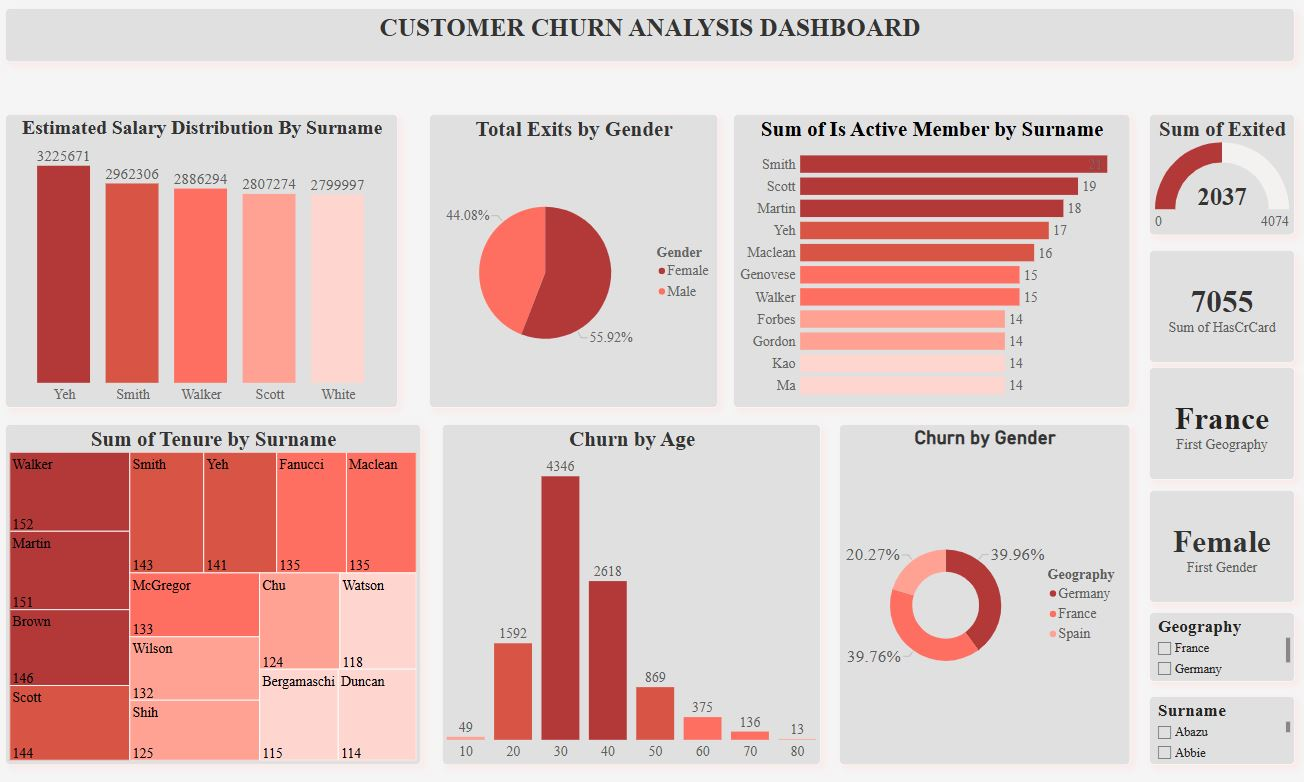

What the dashboard file says about the page in this screenshot:
{"tool":"powerbi","page":{"name":"Page 1","canvas":[2508,1538],"ordinal":0},"visuals":[{"type":"gauge","fields":{"Y":["Churn_Modelling.Exited"]},"box":[2206.9,236.3,278.2,230.6],"z":0},{"type":"pieChart","title":"Total Exits by Gender","fields":{"Category":["Churn_Modelling.Gender"],"Y":["Churn_Modelling.Exited"]},"box":[834.7,236.3,550.8,560.3],"z":1000},{"type":"columnChart","title":"Estimated Salary Distribution By Surname ","fields":{"Y":["Churn_Modelling.EstimatedSalary"],"Category":["Churn_Modelling.Surname"]},"box":[26.7,236.3,749,560.3],"z":2000},{"type":"columnChart","title":"Churn by Age","fields":{"Y":["Churn_Modelling.Exited"],"Category":["Churn_Modelling.Age (bins)"]},"box":[859.5,827.1,722.3,649.9],"z":3000},{"type":"barChart","title":"Sum of Is Active Member by Surname","fields":{"Category":["Churn_Modelling.Surname"],"Y":["Churn_Modelling.IsActiveMember"]},"box":[1414.1,236.3,756.6,560.3],"z":4000},{"type":"donutChart","title":"Churn by Gender","fields":{"Category":["Churn_Modelling.Geography"],"Y":["Churn_Modelling.Exited"]},"box":[1616.1,827.1,554.6,649.9],"z":5000},{"type":"treemap","fields":{"Values":["Churn_Modelling.Tenure"],"Group":["Churn_Modelling.Surname"]},"box":[26.7,827.1,792.8,649.9],"z":6000},{"type":"slicer","fields":{"Values":["Churn_Modelling.Geography"]},"box":[2206.9,1185.4,278.2,133.4],"z":7000},{"type":"slicer","fields":{"Values":["Churn_Modelling.Surname"]},"box":[2206.9,1345.5,278.2,131.5],"z":8000},{"type":"textbox","box":[26.7,34.3,2458.4,102.9],"z":9000},{"type":"card","fields":{"Values":["Churn_Modelling.HasCrCard"]},"box":[2206.9,495.5,278.2,215.4],"z":10000},{"type":"card","fields":{"Values":["Churn_Modelling.Geography"]},"box":[2206.9,718.5,278.2,215.4],"z":11000},{"type":"card","fields":{"Values":["Churn_Modelling.Gender"]},"box":[2206.9,952.9,278.2,215.4],"z":12000}]}

Visuals, with their boxes in screenshot pixels (x1, y1, x2, y2), scaled from the page's 2508x1538 canvas onto the 1304x782 screenshot:
gauge - Churn_Modelling.Exited: bbox=[1147, 120, 1292, 237]
"Total Exits by Gender" pieChart: bbox=[434, 120, 720, 405]
"Estimated Salary Distribution By Surname " columnChart: bbox=[14, 120, 403, 405]
"Churn by Age" columnChart: bbox=[447, 421, 822, 751]
"Sum of Is Active Member by Surname" barChart: bbox=[735, 120, 1129, 405]
"Churn by Gender" donutChart: bbox=[840, 421, 1129, 751]
treemap - Churn_Modelling.Tenure x Churn_Modelling.Surname: bbox=[14, 421, 426, 751]
slicer - Churn_Modelling.Geography: bbox=[1147, 603, 1292, 671]
slicer - Churn_Modelling.Surname: bbox=[1147, 684, 1292, 751]
textbox: bbox=[14, 17, 1292, 70]
card - Churn_Modelling.HasCrCard: bbox=[1147, 252, 1292, 361]
card - Churn_Modelling.Geography: bbox=[1147, 365, 1292, 475]
card - Churn_Modelling.Gender: bbox=[1147, 485, 1292, 594]
